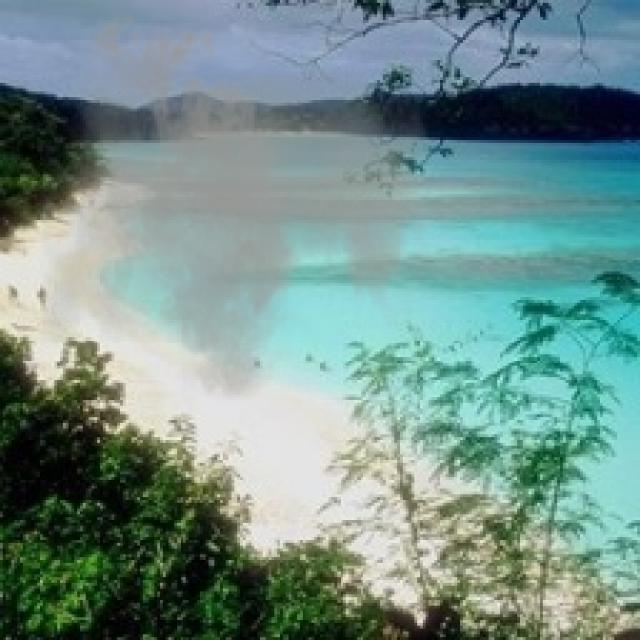smoke: (40, 0, 429, 417)
